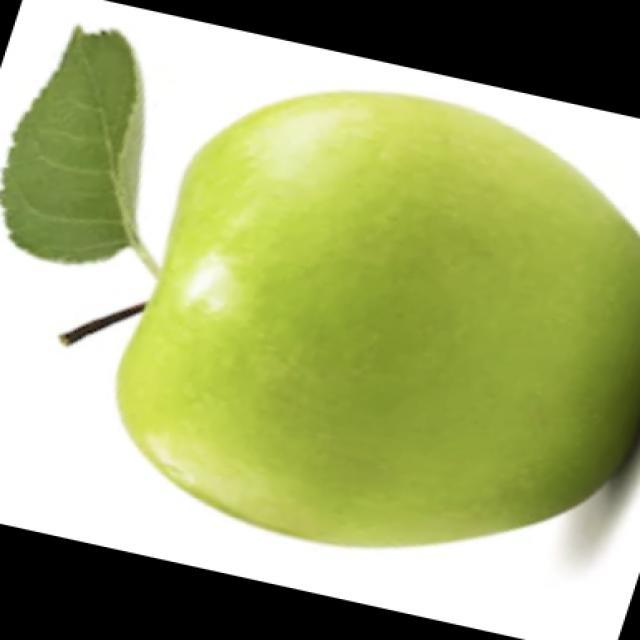Fresh Apple: (91, 96, 640, 588)
